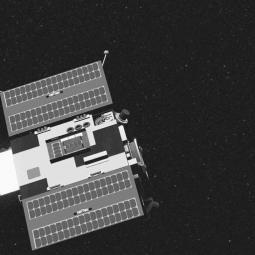proba_2: (4, 51, 138, 250)
